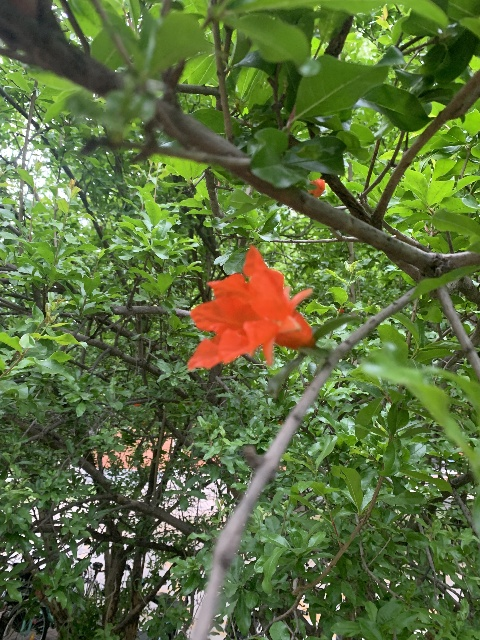bud: (308, 178, 324, 196)
flower: (188, 244, 316, 370)
